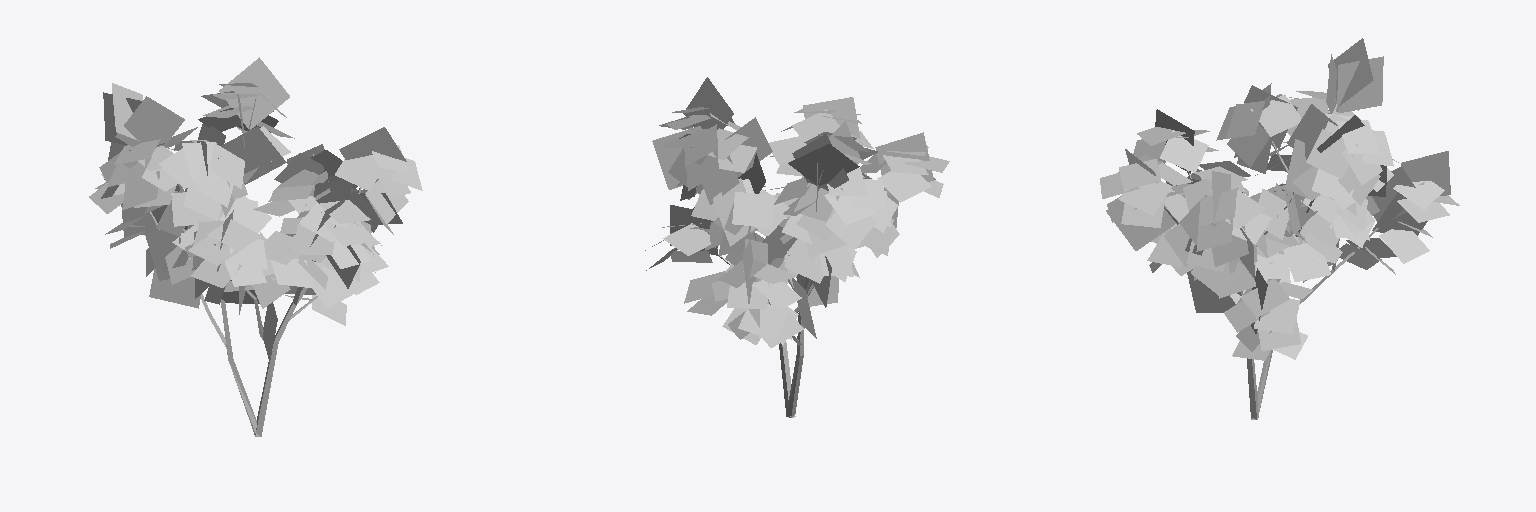
Rendered from tree_3.obj.
The picture shows the model from 3 angles: view 1: azimuth 30°, elevation 25°; view 2: azimuth 150°, elevation 25°; view 3: azimuth 270°, elevation 25°; orthographic projection.
Visible parts, largest first — view 1: polySurface2945; view 2: polySurface2945; view 3: polySurface2945.
Boxes of the visible parts, x1=… form: polySurface2945: x1=89, y1=57, x2=422, y2=436; polySurface2945: x1=645, y1=77, x2=949, y2=417; polySurface2945: x1=1100, y1=38, x2=1459, y2=419.
Size of the model in its own units: 13.83 by 16.49 by 16.01.